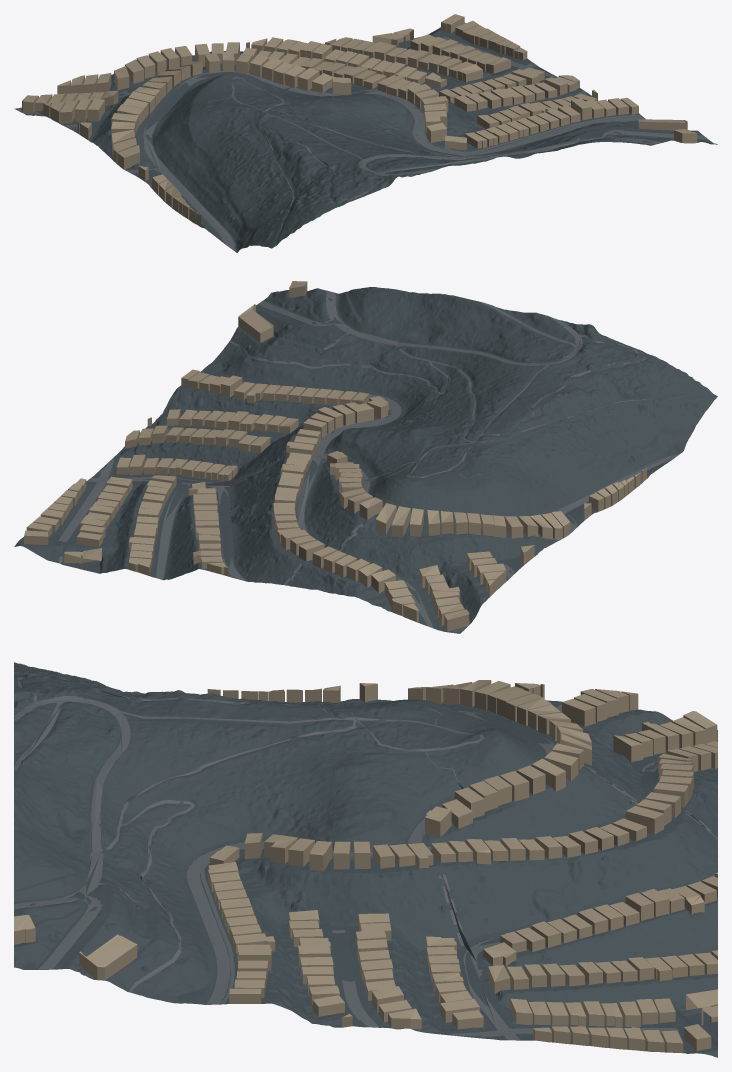
The model's file is epsg26910-1426-10882.lod0.glb.
3 views of the same model, one above another, from view 1: azimuth 30°, elevation 25°; view 2: azimuth 150°, elevation 25°; view 3: azimuth 270°, elevation 25° (orthographic). The views are drawn at different scales.
Visible parts, largest first — view 1: epsg26910-1426-10882-lod0; view 2: epsg26910-1426-10882-lod0; view 3: epsg26910-1426-10882-lod0.
Boxes of the visible parts, x1,y1,x2,y2 form: epsg26910-1426-10882-lod0: (14, 14, 717, 252); epsg26910-1426-10882-lod0: (14, 281, 717, 633); epsg26910-1426-10882-lod0: (14, 662, 717, 1057).
Size of the model in its own units: 384 by 96.85 by 384.
